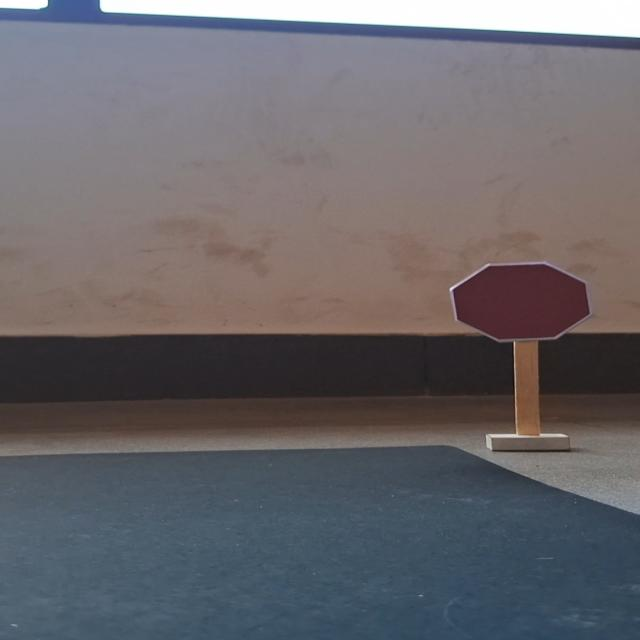Stop: (448, 261, 594, 343)
